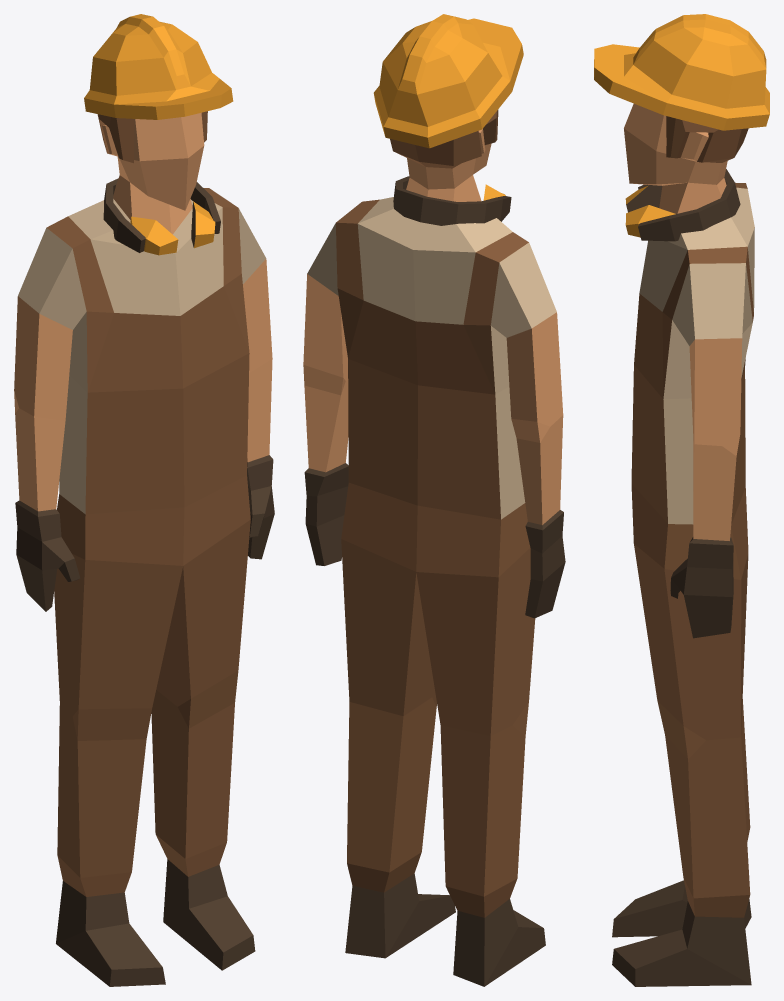
The model's file is man-construction-worker.glb.
3 views of the same model, side by side, from view 1: azimuth 30°, elevation 25°; view 2: azimuth 150°, elevation 25°; view 3: azimuth 270°, elevation 25° (orthographic).
Visible parts, largest first — view 1: man-construction-worker; view 2: man-construction-worker; view 3: man-construction-worker.
Boxes of the visible parts, x1,y1,x2,y2 form: man-construction-worker: [14, 14, 274, 986]; man-construction-worker: [303, 14, 565, 986]; man-construction-worker: [594, 14, 769, 986].
Size of the model in its own units: 0.5139 by 1.89 by 0.3223.
Materials: 1 (1 with a texture image).
